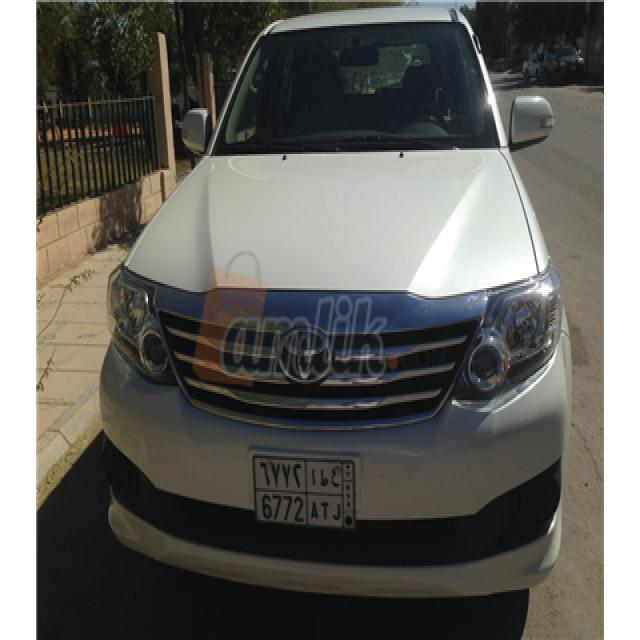license_plate: (252, 452, 357, 532)
